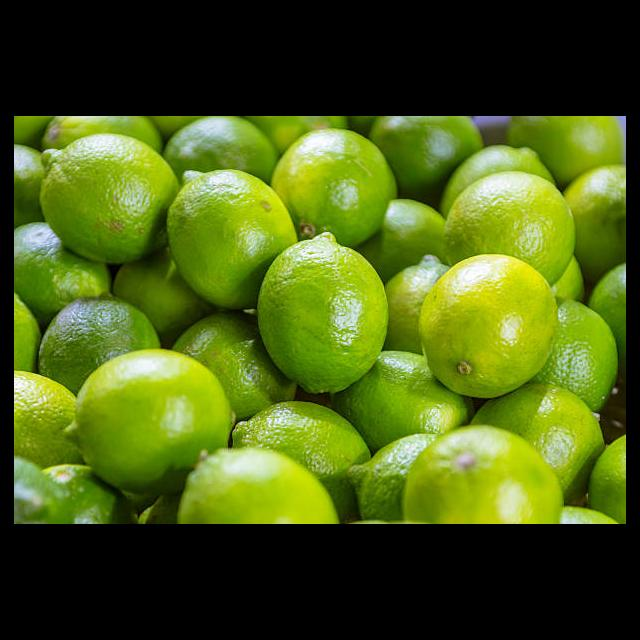lime: (258, 234, 390, 396), (419, 255, 560, 401), (38, 135, 180, 266)
